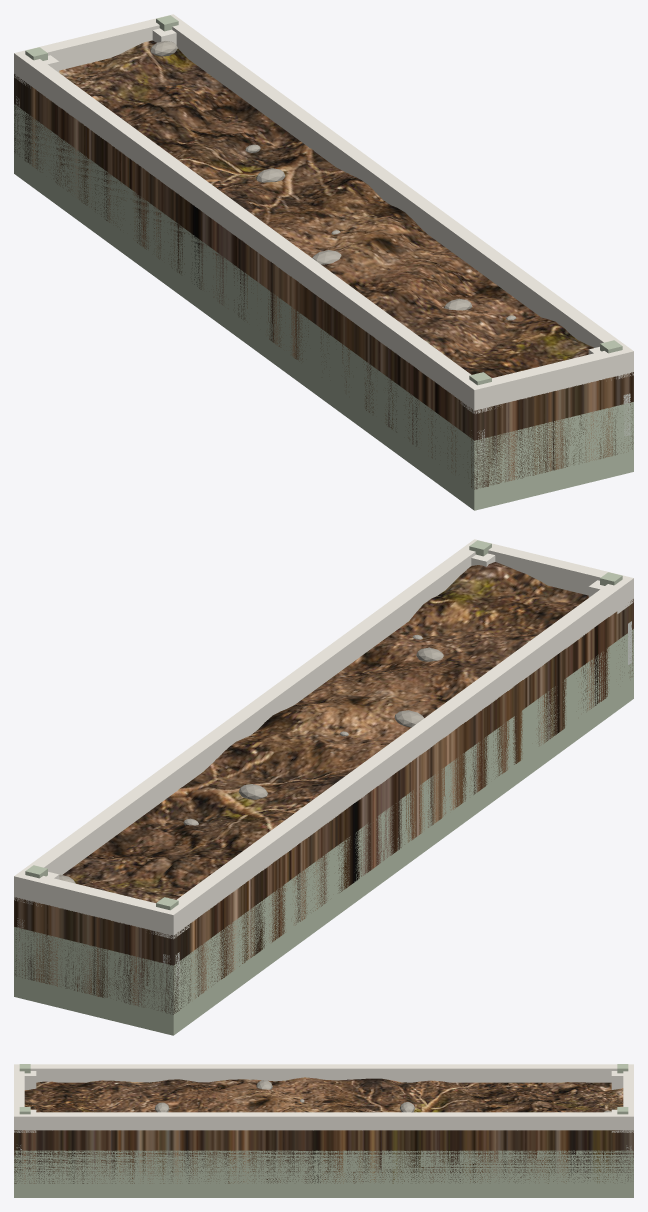
Rendered from s03-untreated-edge-east.glb.
3 views of the same model, one above another, from view 1: azimuth 30°, elevation 25°; view 2: azimuth 150°, elevation 25°; view 3: azimuth 270°, elevation 25° (orthographic). The views are drawn at different scales.
Visible parts, largest first — view 1: S03_Physical_Untreated_Soil_Top_RealRelief, S03_Frame_Sage_Solid_Bottom, S03_Cream_Rim_W, S03_Cream_Rim_E, S03_Cream_Rim_N, S03_Cream_Rim_S; view 2: S03_Physical_Untreated_Soil_Top_RealRelief, S03_Frame_Sage_Solid_Bottom, S03_Cream_Rim_W, S03_Cream_Rim_E, S03_Cream_Rim_S, S03_Cream_Rim_N; view 3: S03_Physical_Untreated_Soil_Top_RealRelief, S03_Frame_Sage_Solid_Bottom, S03_Cream_Rim_E, S03_Cream_Rim_W, S03_Cream_Rim_N, S03_Cream_Rim_S, S03_Cream_Protective_Corner_1_0, S03_Cream_Protective_Corner_0_1, S03_Cream_Protective_Corner_1_1, S03_Cream_Protective_Corner_0_0.
Part boxes in pixels (x1,y1,x2,y2): S03_Physical_Untreated_Soil_Top_RealRelief: (14, 40, 633, 489); S03_Frame_Sage_Solid_Bottom: (14, 104, 633, 510); S03_Cream_Rim_W: (14, 51, 487, 410); S03_Cream_Rim_E: (162, 14, 633, 372); S03_Cream_Rim_N: (466, 346, 633, 410); S03_Cream_Rim_S: (14, 14, 180, 78); S03_Physical_Untreated_Soil_Top_RealRelief: (14, 562, 633, 1014); S03_Frame_Sage_Solid_Bottom: (14, 629, 633, 1035); S03_Cream_Rim_W: (160, 576, 633, 935); S03_Cream_Rim_E: (14, 539, 487, 897); S03_Cream_Rim_S: (14, 872, 181, 935); S03_Cream_Rim_N: (467, 539, 633, 601); S03_Physical_Untreated_Soil_Top_RealRelief: (14, 1077, 633, 1183); S03_Frame_Sage_Solid_Bottom: (14, 1150, 633, 1197); S03_Cream_Rim_E: (14, 1112, 633, 1130); S03_Cream_Rim_W: (14, 1064, 633, 1082); S03_Cream_Rim_N: (14, 1064, 24, 1130); S03_Cream_Rim_S: (623, 1064, 633, 1130); S03_Cream_Protective_Corner_1_0: (611, 1109, 633, 1132); S03_Cream_Protective_Corner_0_1: (24, 1071, 36, 1089); S03_Cream_Protective_Corner_1_1: (14, 1109, 36, 1132); S03_Cream_Protective_Corner_0_0: (611, 1071, 623, 1089).
Size of the model in its own units: 0.2 by 0.149 by 1.
Materials: 7 (1 with a texture image).
